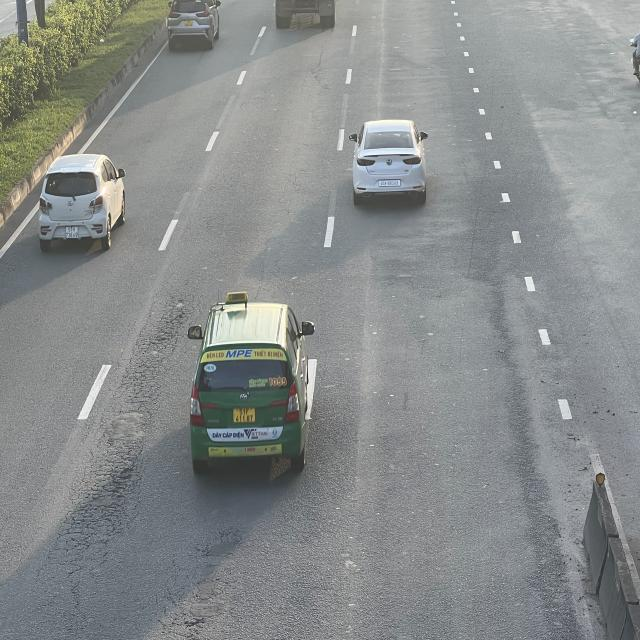car: (187, 293, 315, 479), (38, 154, 126, 253), (348, 118, 427, 204), (168, 0, 224, 48)
